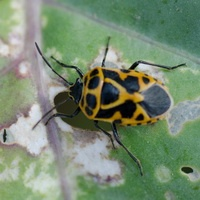insect: (33, 41, 185, 175)
